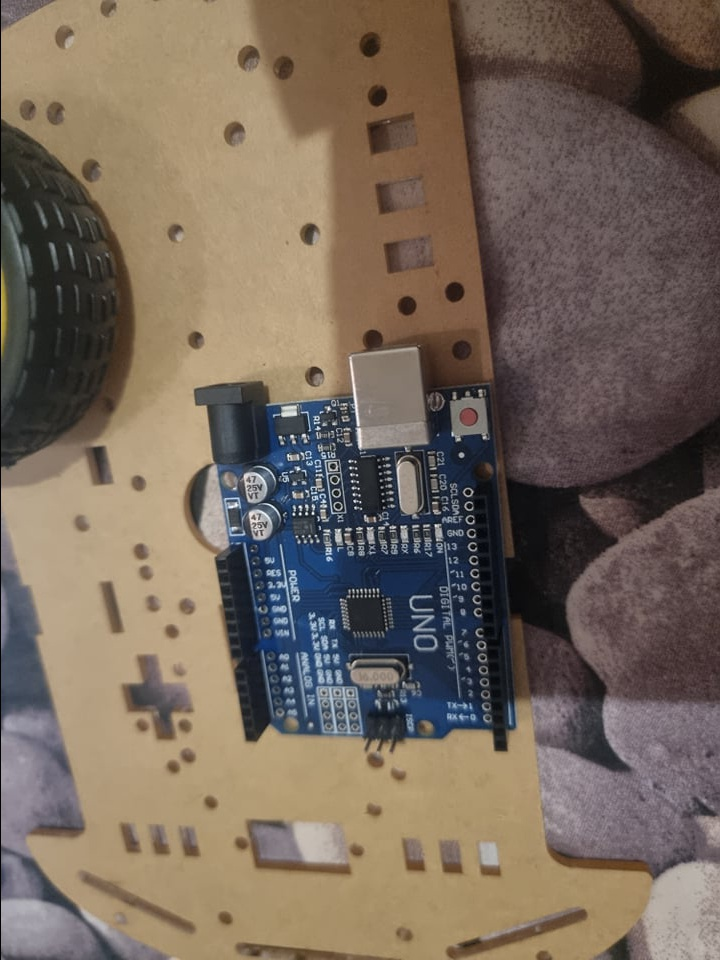UNO R3: (191, 344, 517, 742)
